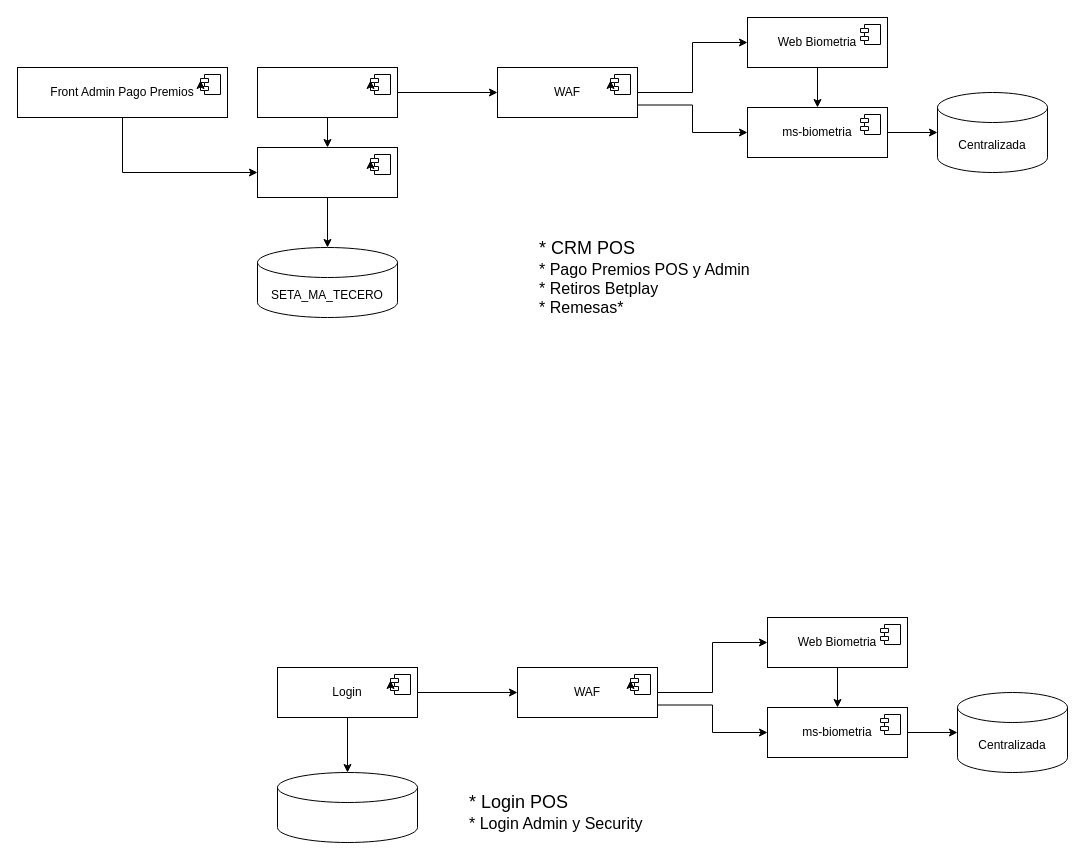
This 1085x860 diagram has some shape labels left out. The shapes that lost their labels are listed below. From the top down, each one's centre as x and y in pixels, then its label:
At (327,92): "Unificado".
At (327,172): "ms terceros".
At (347,807): "SISE_MA_USUARIO".
